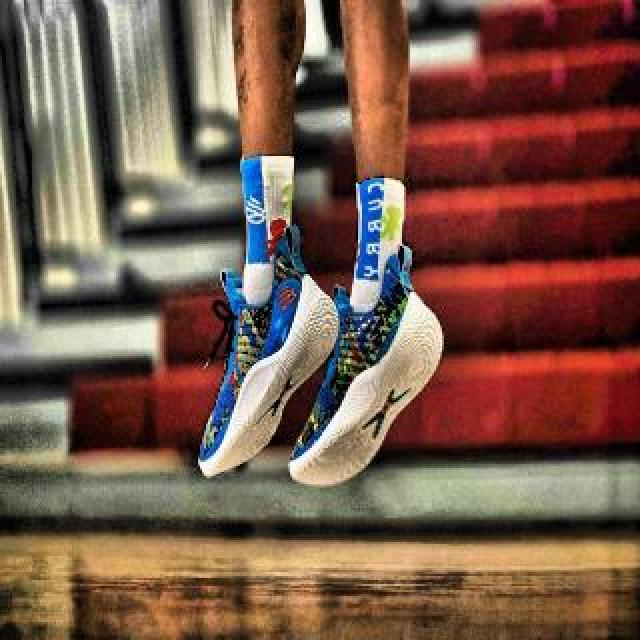shoe: (288, 244, 442, 488), (196, 224, 340, 476)
